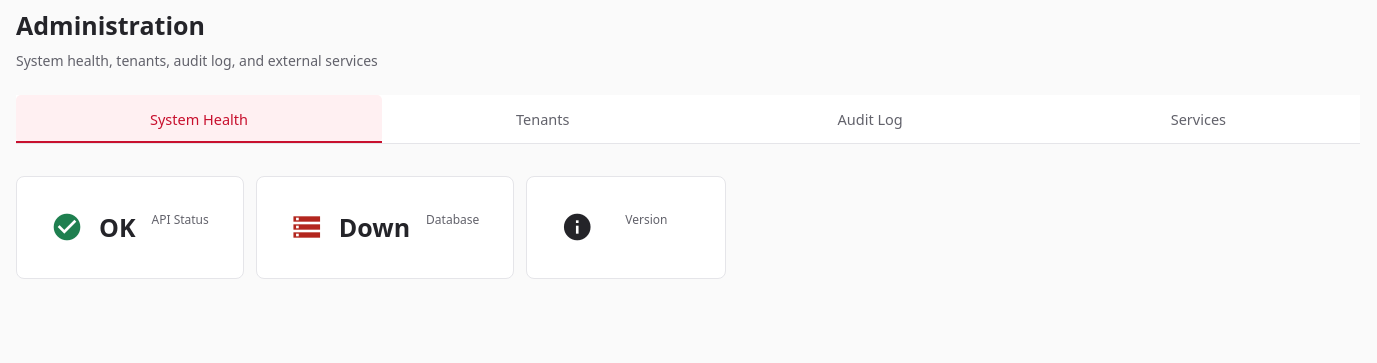
it: AdminComponent › shows New Tenant to the platform administrator
Click the tab "Tenants": point(543, 119) x1=516 y1=109 x2=570 y2=129
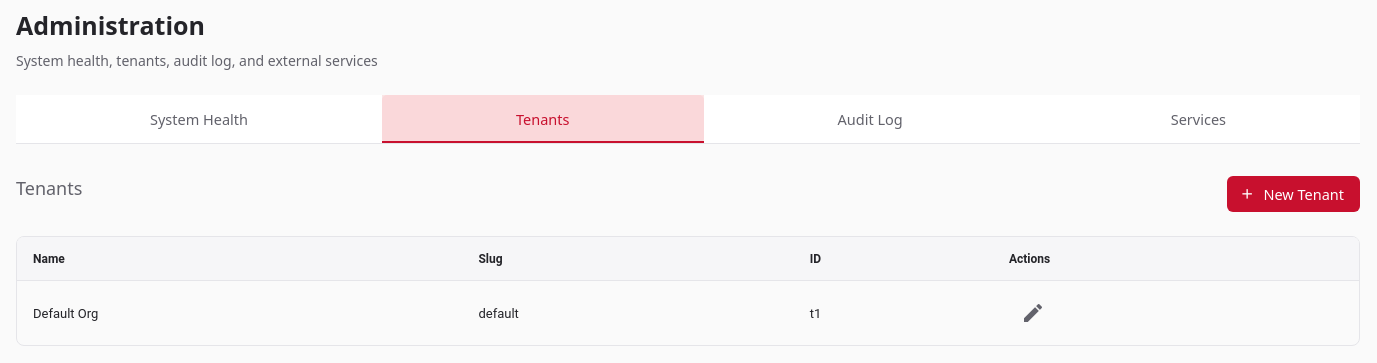
Now the text "New Tenant" is shown, box x1=1263 y1=184 x2=1344 y2=204
